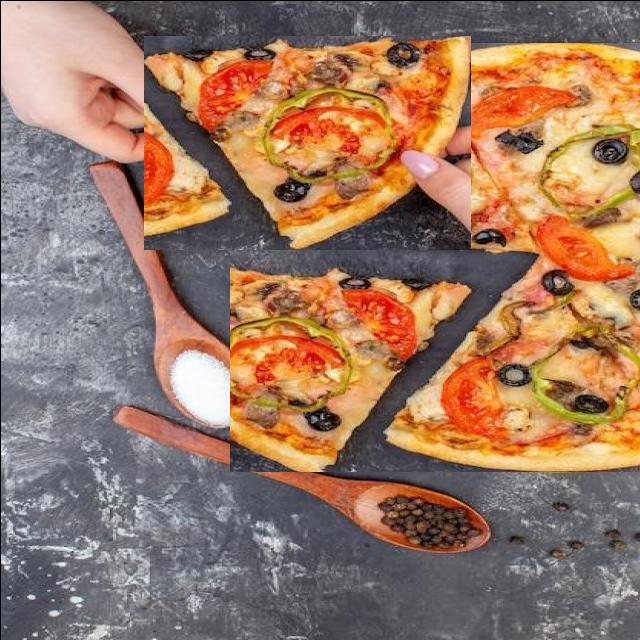olive: (494, 358, 544, 384), (592, 351, 627, 375), (541, 218, 572, 244), (194, 218, 226, 242), (306, 82, 338, 104), (498, 128, 530, 150), (332, 300, 360, 324), (414, 321, 447, 339), (472, 267, 505, 284), (574, 102, 606, 119), (364, 304, 392, 320), (338, 224, 370, 236), (400, 225, 430, 235), (629, 320, 640, 344), (628, 204, 640, 224)
pizza: (229, 42, 640, 471), (143, 35, 470, 249)
